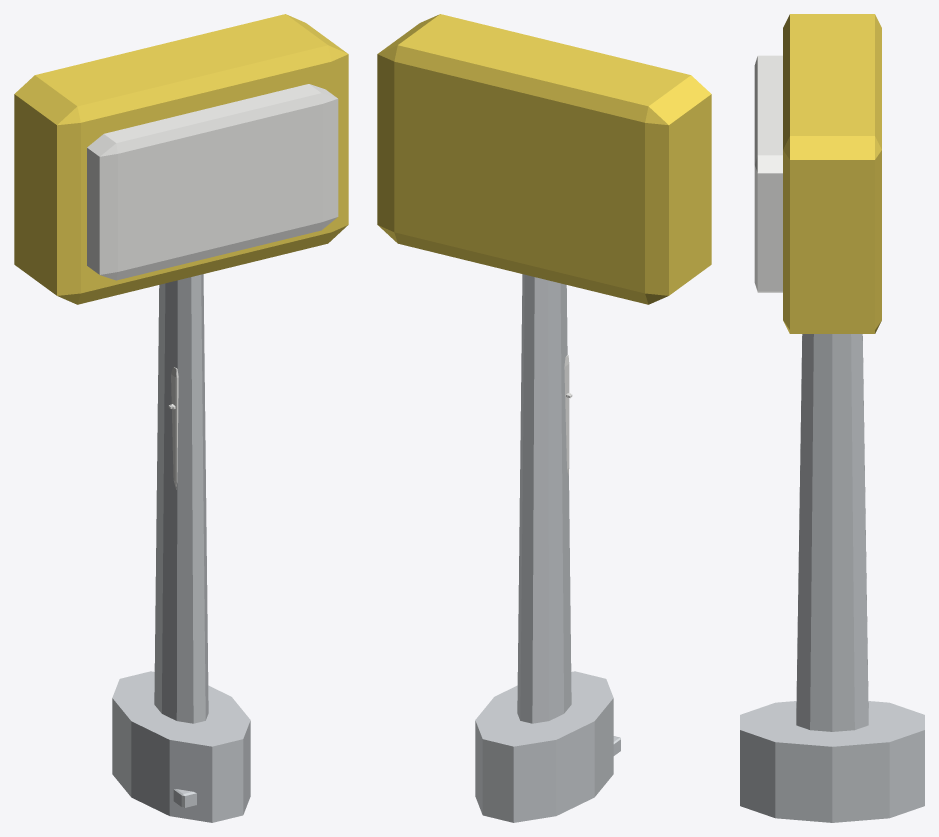
The model's file is b02_horizontal_traffic_signal.glb.
The picture shows the model from 3 angles, left to right: view 1: azimuth 30°, elevation 25°; view 2: azimuth 150°, elevation 25°; view 3: azimuth 270°, elevation 25°; orthographic projection.
Visible parts, largest first — view 1: b02_horizontal_traffic_signal; view 2: b02_horizontal_traffic_signal; view 3: b02_horizontal_traffic_signal.
Part boxes in pixels (x1=…): b02_horizontal_traffic_signal: x1=14, y1=14, x2=348, y2=822; b02_horizontal_traffic_signal: x1=377, y1=14, x2=711, y2=822; b02_horizontal_traffic_signal: x1=740, y1=14, x2=924, y2=822.
Size of the model in its own units: 1.14 by 2.72 by 0.63.
